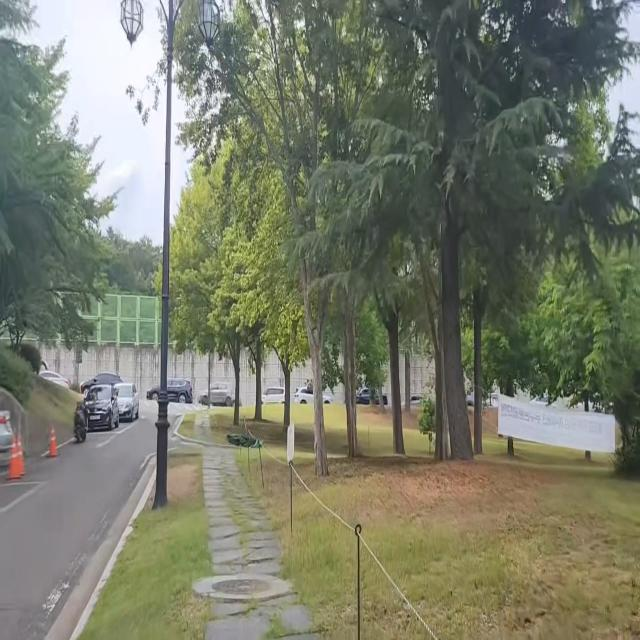obstacle: (66, 379, 142, 449)
road: (0, 416, 182, 640)
sidewalk: (85, 453, 327, 640)
